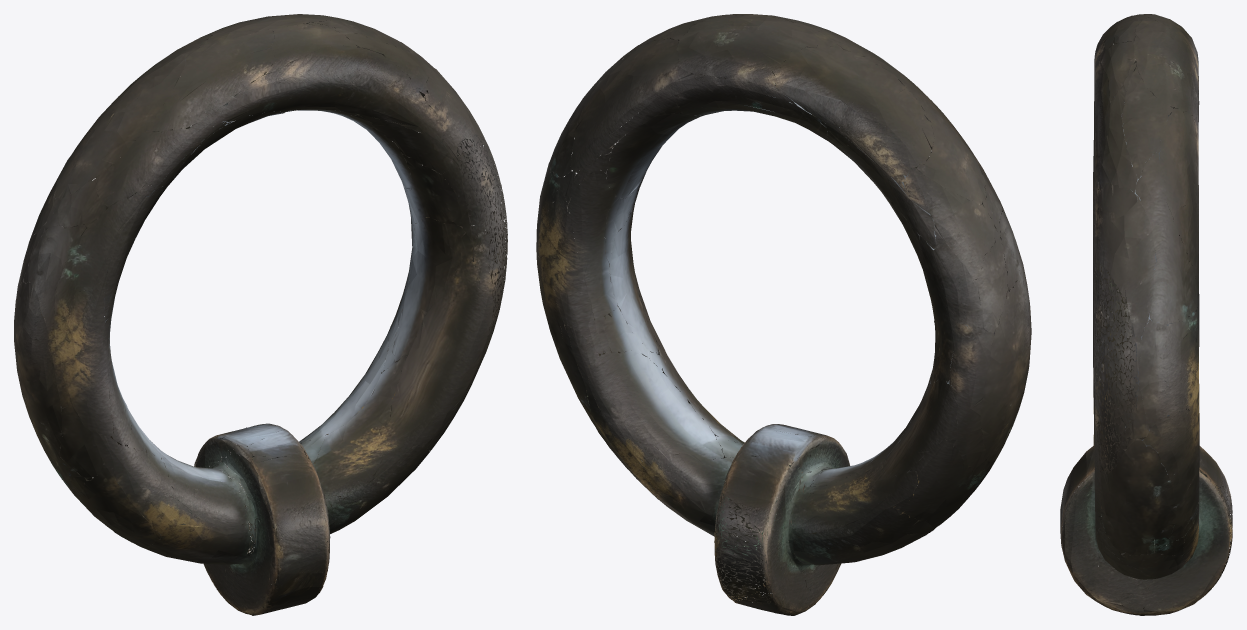
The model's file is mooring-ring-slim.glb.
The picture shows the model from 3 angles, left to right: view 1: azimuth 30°, elevation 25°; view 2: azimuth 150°, elevation 25°; view 3: azimuth 270°, elevation 25°; orthographic projection. The views are drawn at different scales.
Parts seen in each view (by area): view 1: node_0; view 2: node_0; view 3: node_0.
Boxes of the visible parts, x1,y1,x2,y2 form: node_0: [14, 14, 507, 615]; node_0: [536, 14, 1031, 615]; node_0: [1060, 14, 1232, 615].
Bounding box in the file's own units: 1.03 × 1.2 × 0.33.
1 material, 1 textured.
